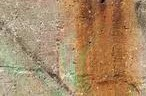Corrosion: (74, 1, 141, 96)
